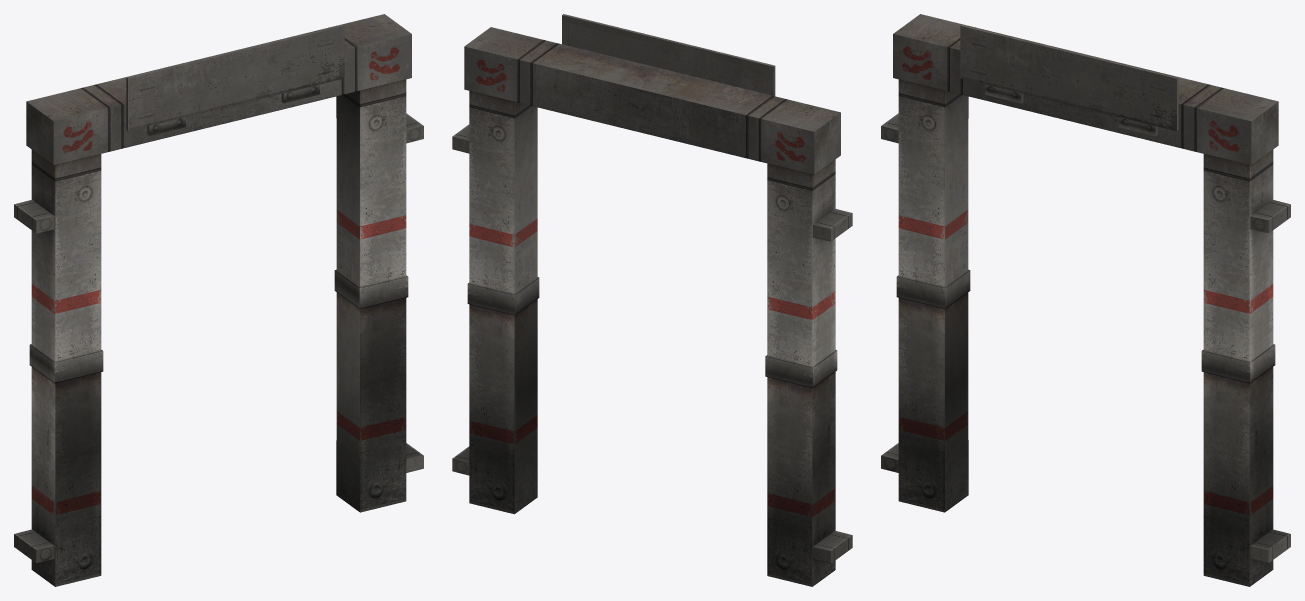
File: slidedoor_flesher_medium_frame.DAE
The picture shows the model from 3 angles, left to right: view 1: azimuth 30°, elevation 25°; view 2: azimuth 150°, elevation 25°; view 3: azimuth 330°, elevation 25°; orthographic projection. The views are drawn at different scales.
Visible parts, largest first — view 1: slidedoor_flesher_medium_frame; view 2: slidedoor_flesher_medium_frame; view 3: slidedoor_flesher_medium_frame.
Boxes of the visible parts, x1,y1,x2,y2 form: slidedoor_flesher_medium_frame: (14, 14, 423, 586); slidedoor_flesher_medium_frame: (452, 14, 852, 586); slidedoor_flesher_medium_frame: (881, 14, 1290, 586).
Size of the model in its own units: 2.63 by 0.3619 by 3.21.
